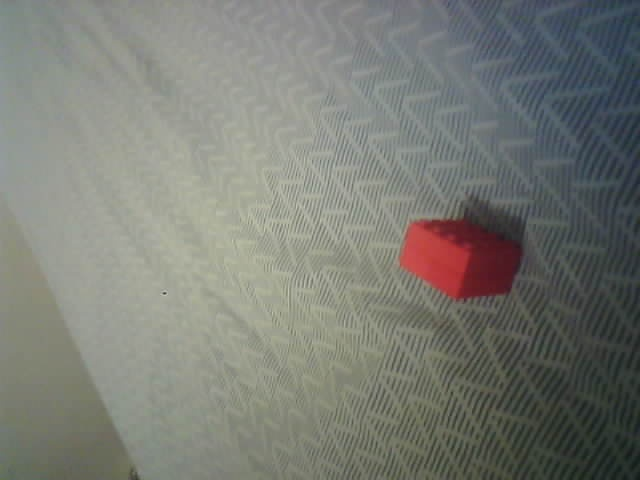lego: (396, 217, 522, 300)
